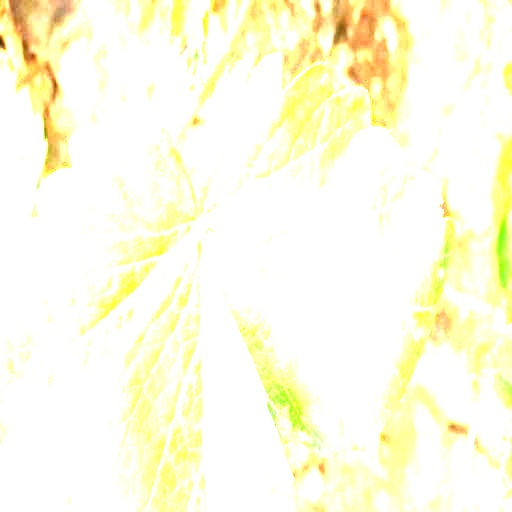Leaf Spot: (194, 52, 457, 459), (0, 98, 201, 502), (167, 0, 213, 92)
